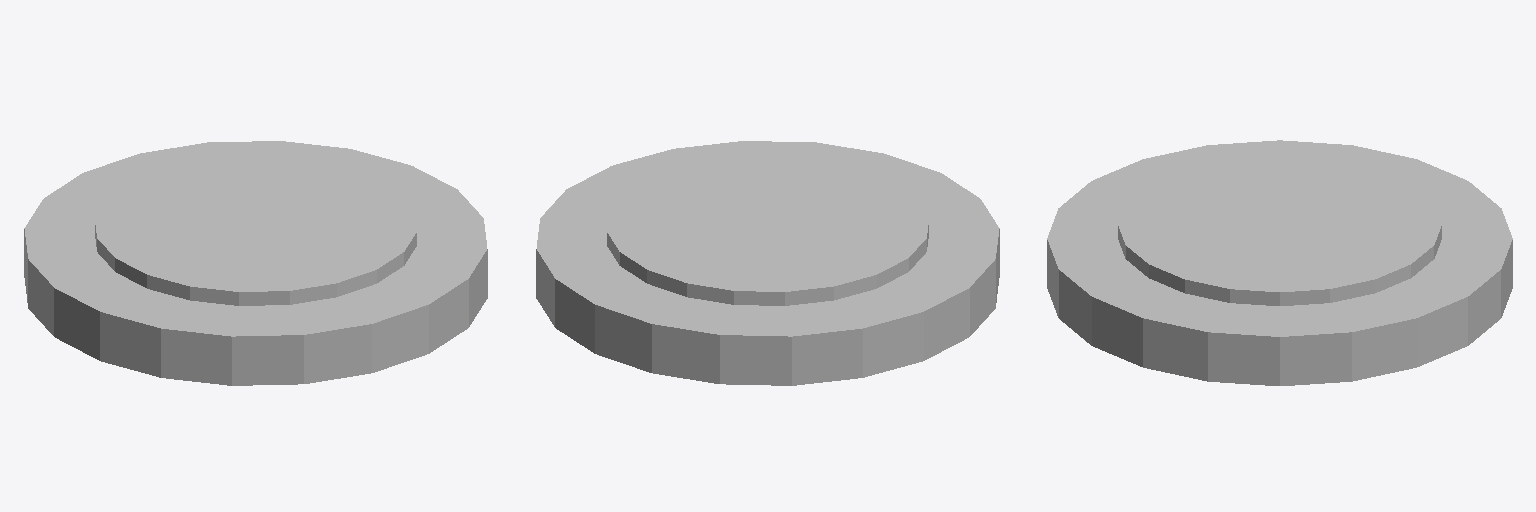
Rendered from ButtonMesh.obj.
3 views of the same model, side by side, from view 1: azimuth 30°, elevation 25°; view 2: azimuth 150°, elevation 25°; view 3: azimuth 270°, elevation 25° (orthographic).
Parts seen in each view (by area): view 1: pCylinder3; view 2: pCylinder3; view 3: pCylinder3.
Boxes of the visible parts, x1,y1,x2,y2 form: pCylinder3: [24, 141, 487, 385]; pCylinder3: [536, 141, 999, 385]; pCylinder3: [1047, 140, 1512, 385].
Size of the model in its own units: 18.17 by 2.77 by 18.17.